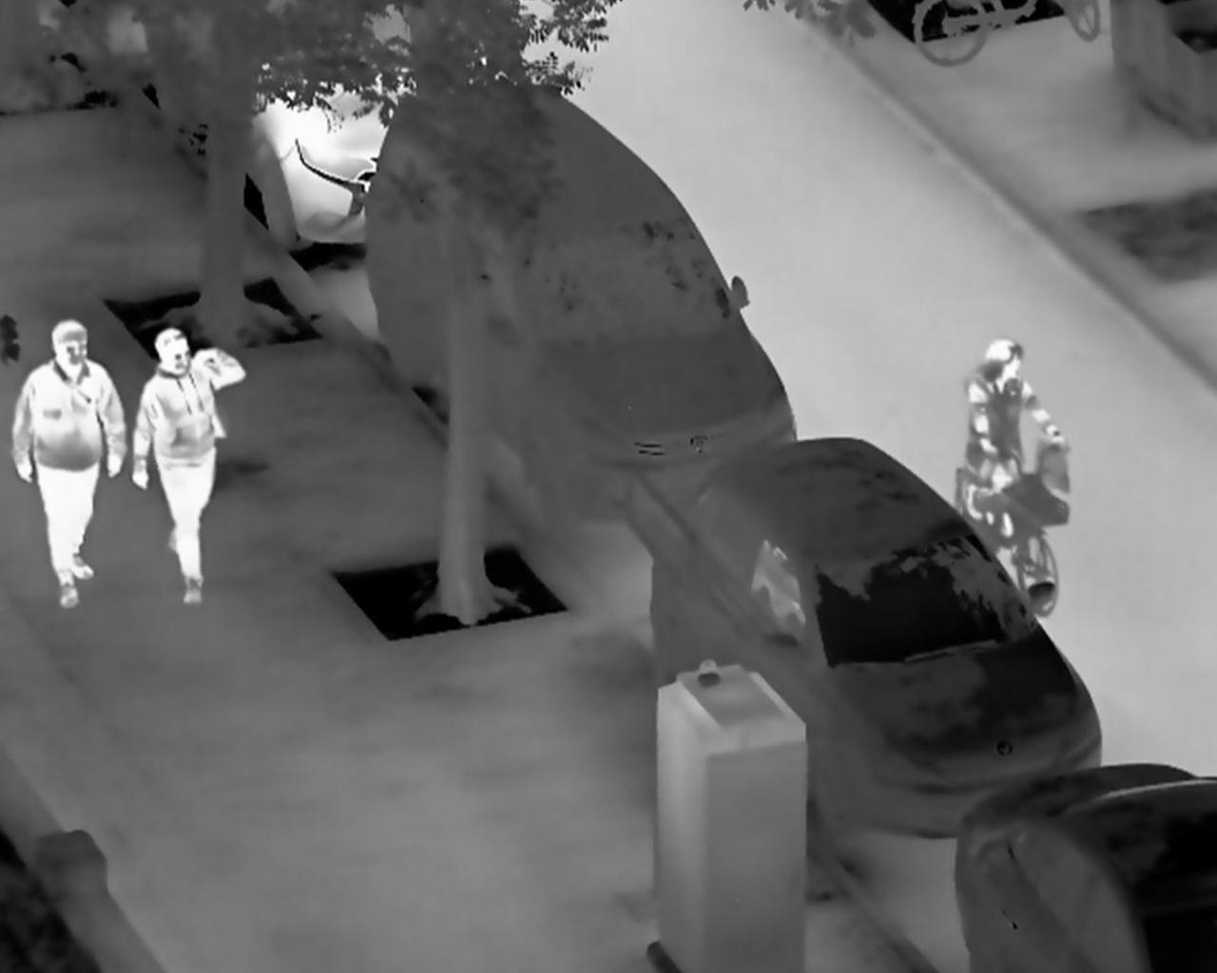person: (10, 317, 125, 609), (131, 323, 248, 605), (957, 334, 1070, 536)
